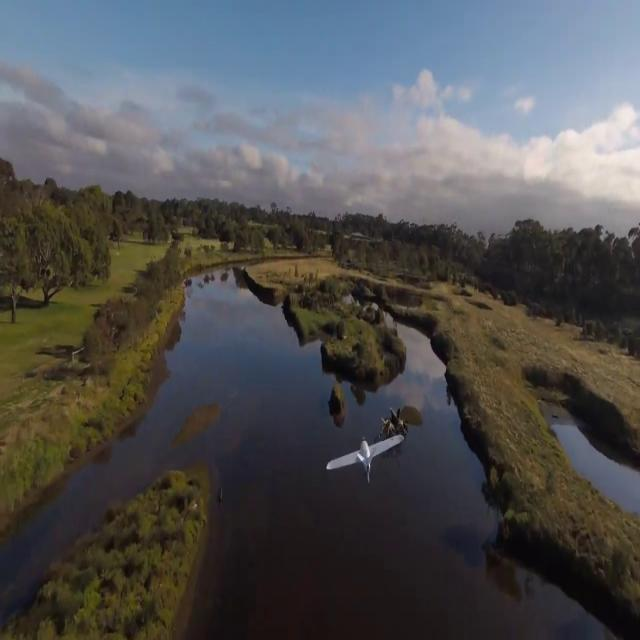iha: (362, 429, 368, 477)
